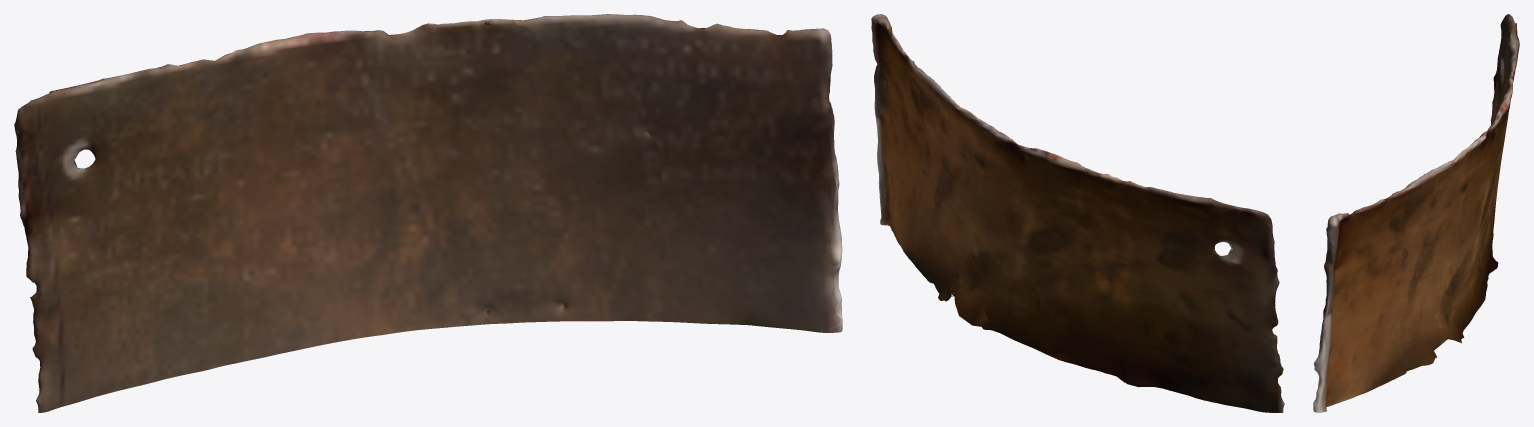
Rendered from TabulaIlici.glb.
The picture shows the model from 3 angles, left to right: view 1: azimuth 30°, elevation 25°; view 2: azimuth 150°, elevation 25°; view 3: azimuth 270°, elevation 25°; orthographic projection. The views are drawn at different scales.
Parts seen in each view (by area): view 1: tabula; view 2: tabula; view 3: tabula.
Boxes of the visible parts, left/top/right/bottom form: tabula: left=14, top=14, right=842, bottom=412; tabula: left=871, top=14, right=1284, bottom=412; tabula: left=1313, top=14, right=1519, bottom=412.
Bounding box in the file's own units: 0.206 × 0.0873 × 0.0819.
Materials: 1 (1 with a texture image).
